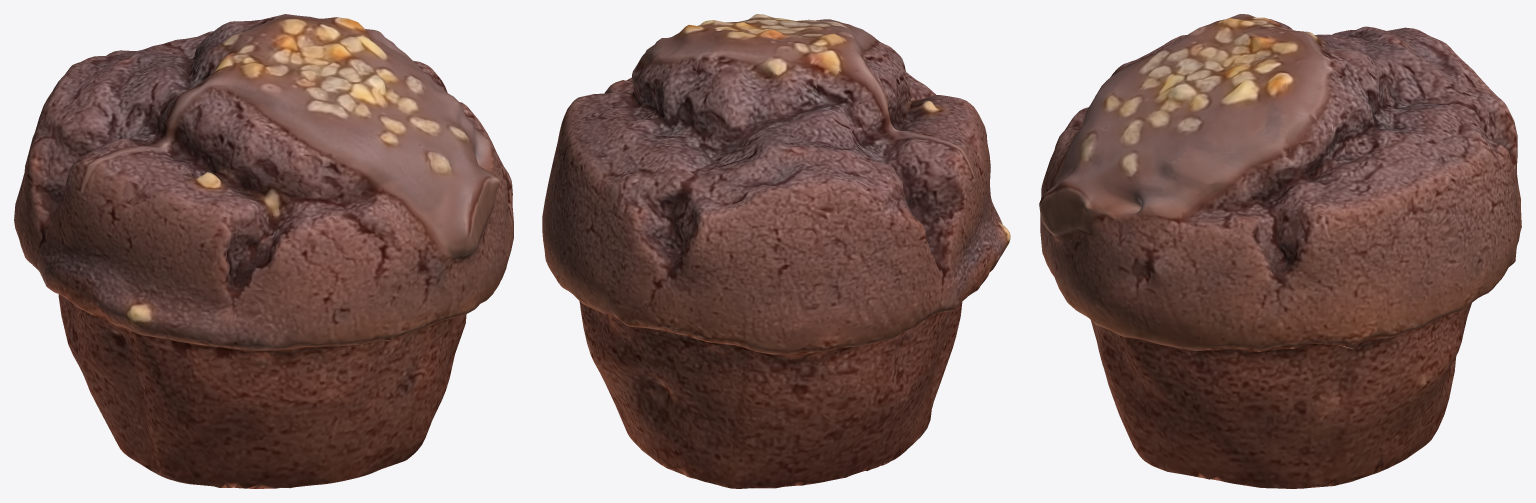
The model's file is muffin_13356.obj.
The picture shows the model from 3 angles, left to right: view 1: azimuth 30°, elevation 25°; view 2: azimuth 150°, elevation 25°; view 3: azimuth 270°, elevation 25°; orthographic projection. The views are drawn at different scales.
Size of the model in its own units: 14.21 by 13.01 by 14.4.
1 material, 1 textured.
